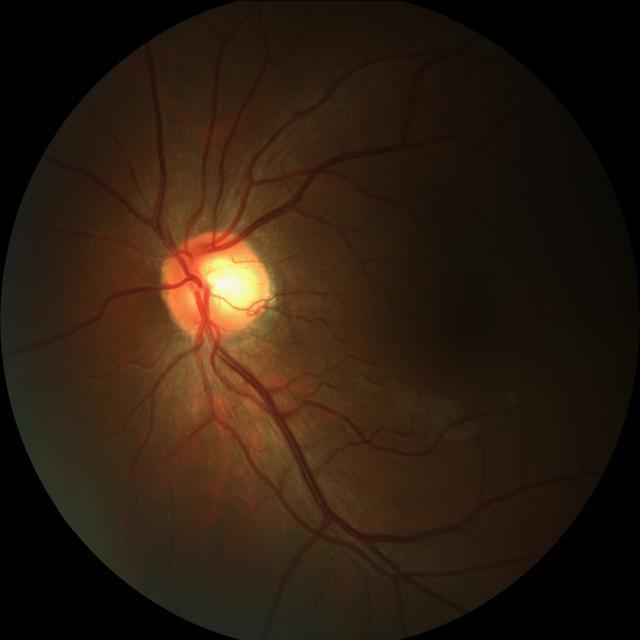OC: (196, 254, 257, 314)
OD: (164, 230, 272, 339)
